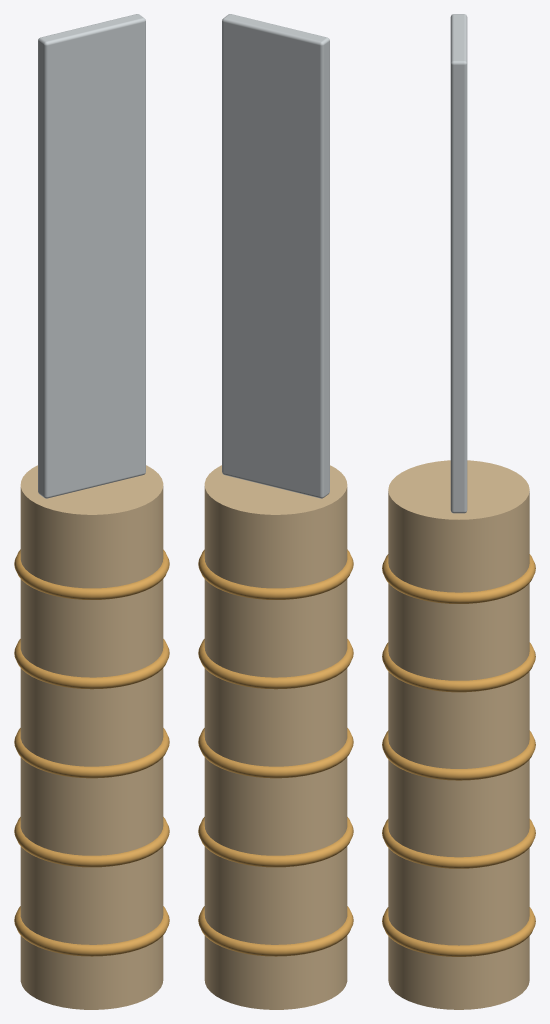
File: candlemaking-and-soap-workshop-candle-trimming-knife-9541cc3a__30667.glb
3 views of the same model, side by side, from view 1: azimuth 30°, elevation 25°; view 2: azimuth 150°, elevation 25°; view 3: azimuth 270°, elevation 25° (orthographic).
Visible parts, largest first — view 1: candle-trimming-knife; view 2: candle-trimming-knife; view 3: candle-trimming-knife.
Part boxes in pixels (x1,y1,x2,y2): candle-trimming-knife: (14, 14, 169, 1009); candle-trimming-knife: (198, 14, 353, 1009); candle-trimming-knife: (382, 14, 535, 1009).
Size of the model in its own units: 0.037 by 0.25 by 0.037.
